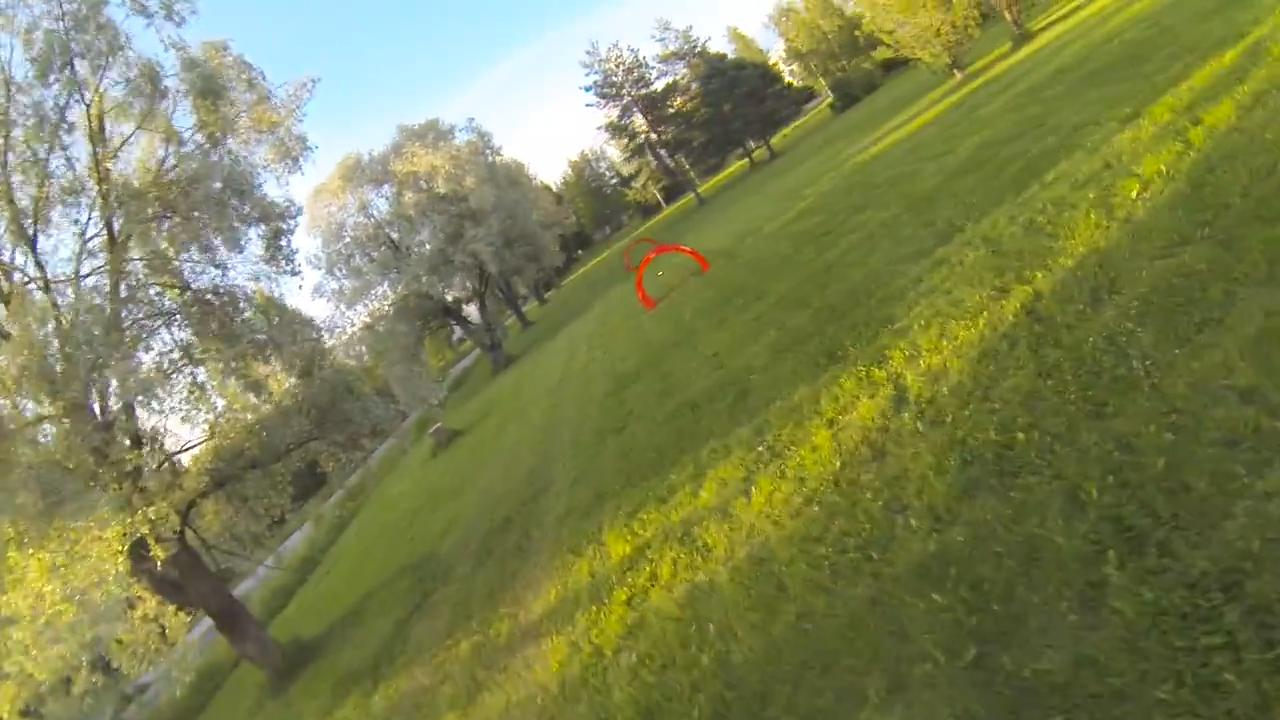gate: (635, 244, 711, 311)
